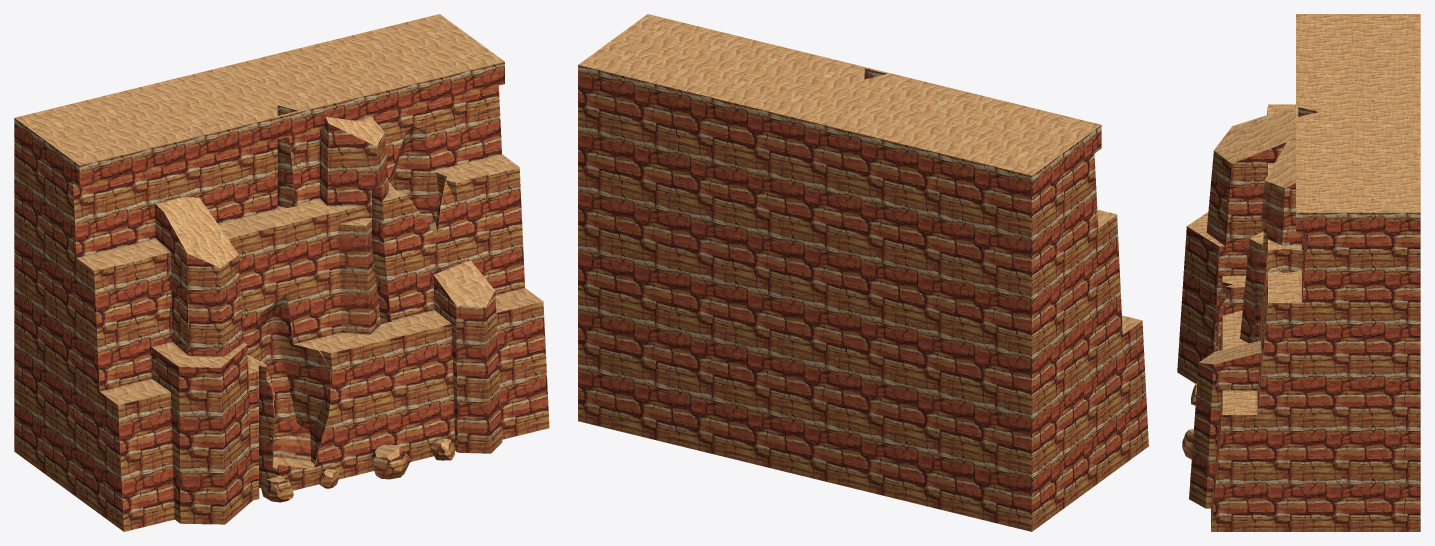
File: canyon_edge_01.glb
3 renders of one model, left to right at view 1: azimuth 30°, elevation 25°; view 2: azimuth 150°, elevation 25°; view 3: azimuth 270°, elevation 25°, orthographic. The views are drawn at different scales.
Parts seen in each view (by area): view 1: canyon_edge_01; view 2: canyon_edge_01; view 3: canyon_edge_01.
Part boxes in pixels (x1,y1,x2,y2): canyon_edge_01: (14, 14, 549, 531); canyon_edge_01: (578, 14, 1148, 531); canyon_edge_01: (1177, 14, 1420, 531).
Bounding box in the file's own units: 16 × 12 × 8.29.
1 material, 1 textured.
